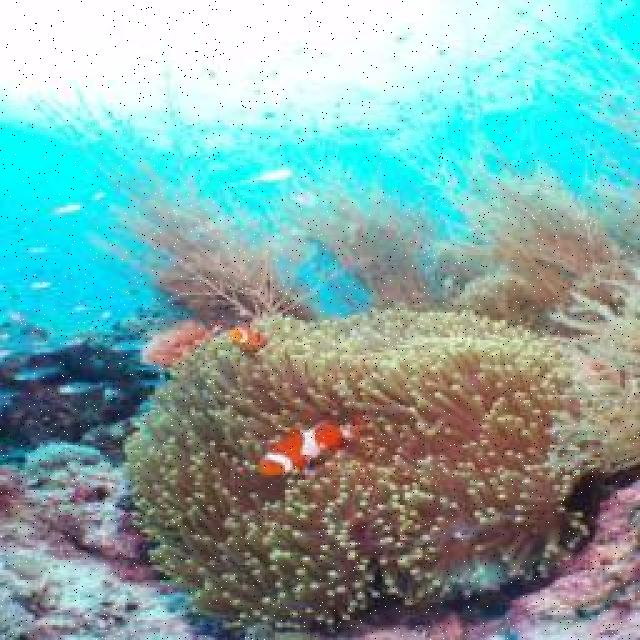fish: (256, 418, 366, 478), (229, 324, 268, 357)
reefs: (121, 308, 591, 636)
